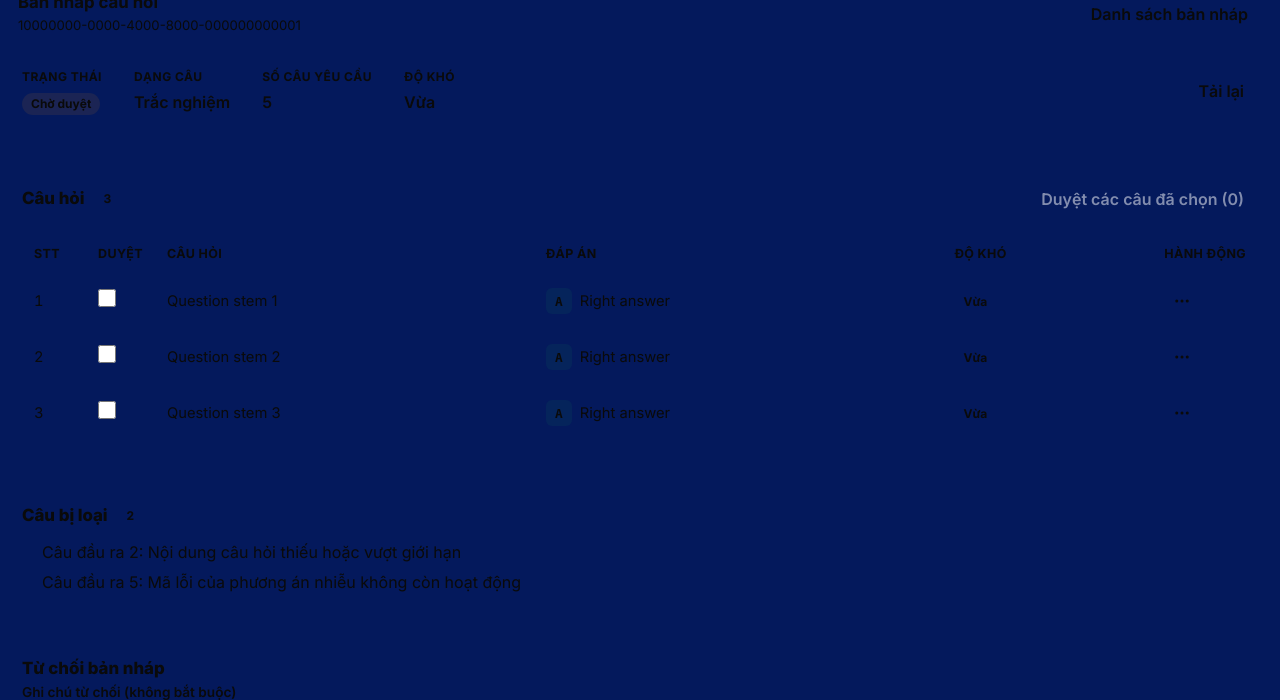
Test: AiDraftDetailPage › retains a rejection note and selection after rejection fails
The image size is (1280, 700).
Click the checkbox named "Chọn câu 1 để duyệt" at (107, 298), box [98, 289, 116, 307]
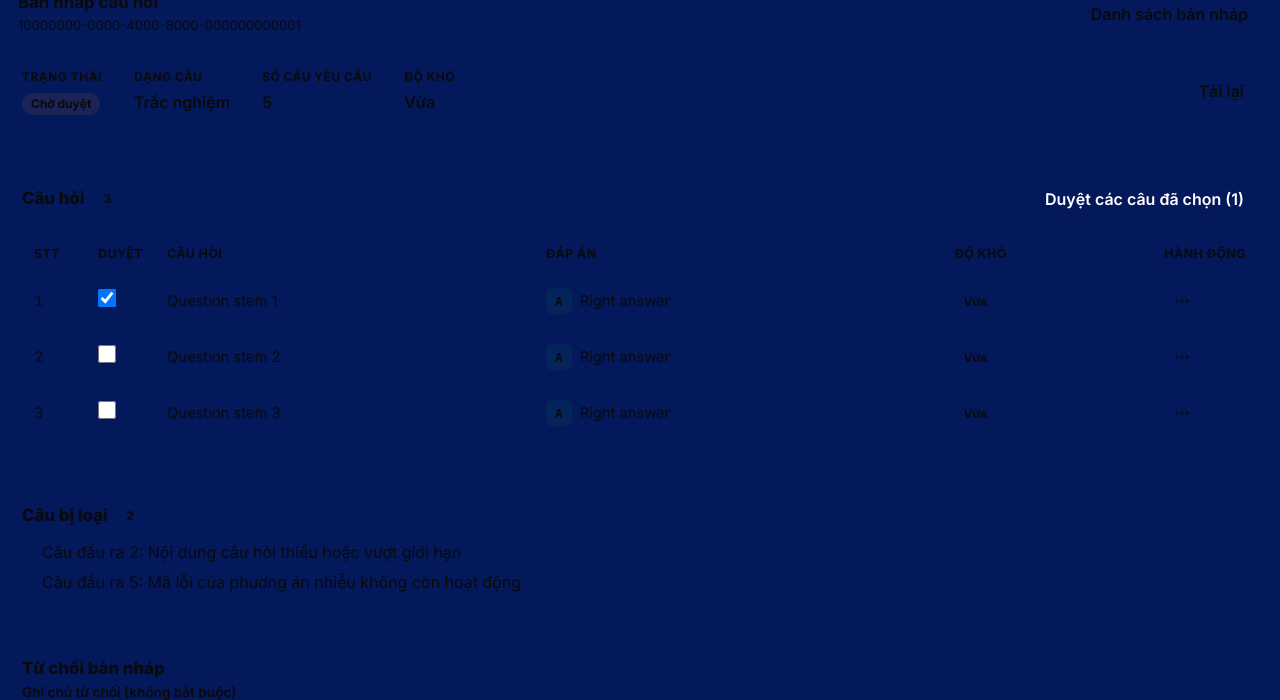
Click the checkbox named "Chọn câu 3 để duyệt" at (107, 410), box [98, 401, 116, 419]
(page scrolled)
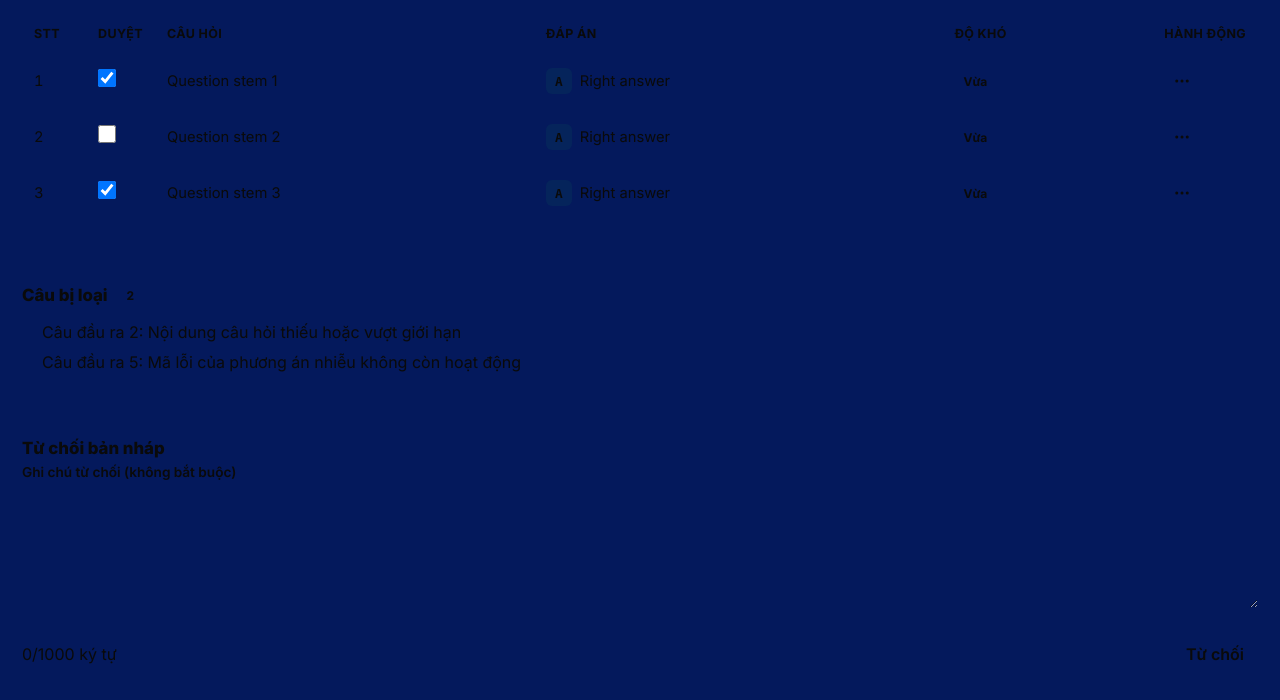
Type "Please check this" into the text box labelled "Ghi chú từ chối (không bắt buộc)" at (640, 548), box [22, 488, 1258, 608]
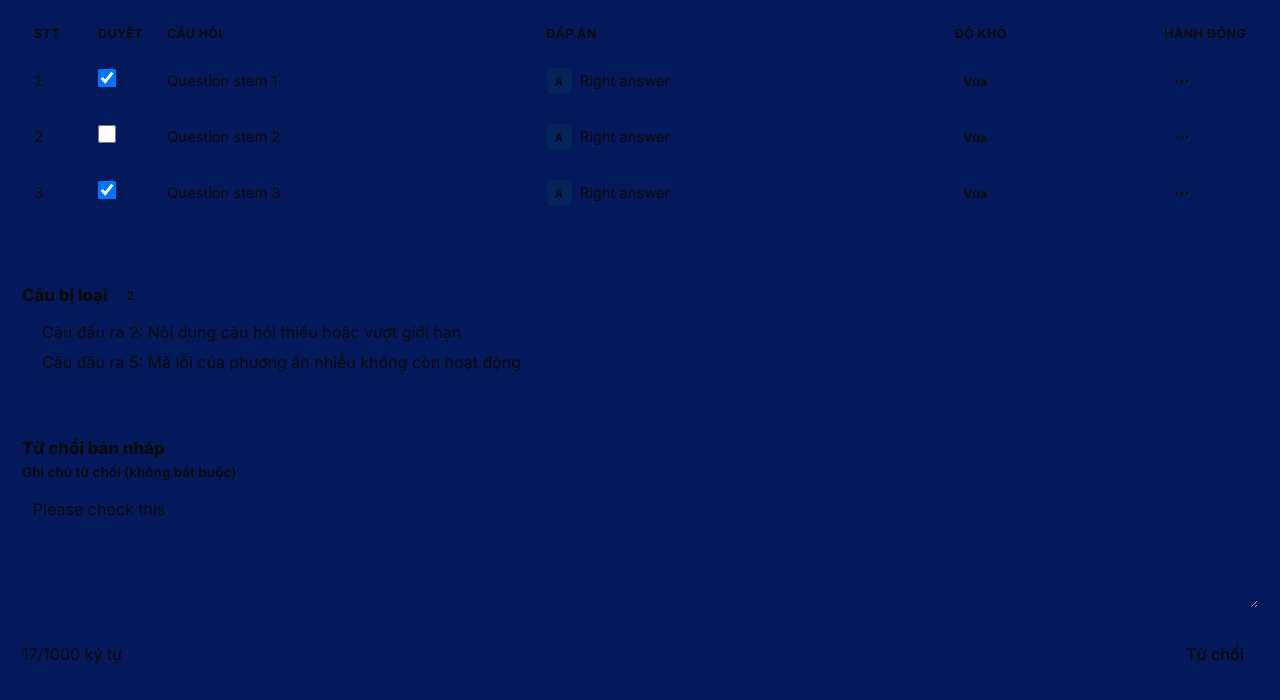
Click the button "Từ chối" at (1215, 654), box [1172, 632, 1258, 676]
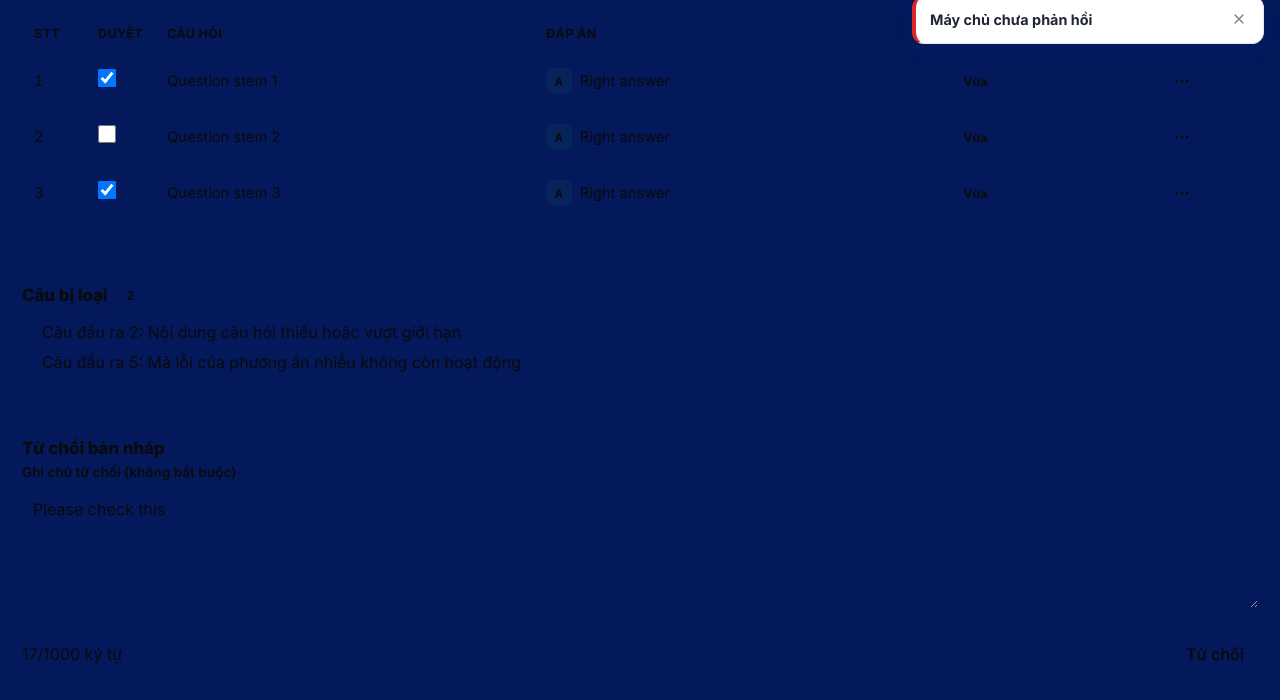
Now the checkbox named "Chọn câu 3 để duyệt" is checked, box [98, 181, 116, 199]
Now the message reads "Máy chủ chưa phản hồi", box [930, 11, 1092, 28]
